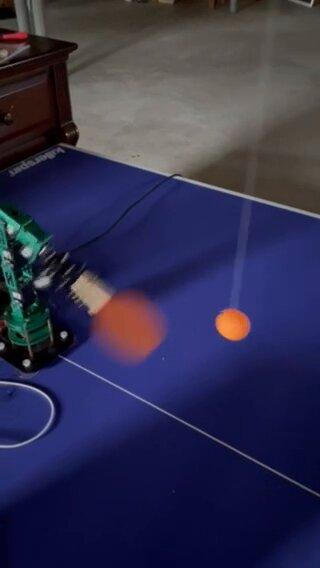oball: (217, 309, 251, 341)
